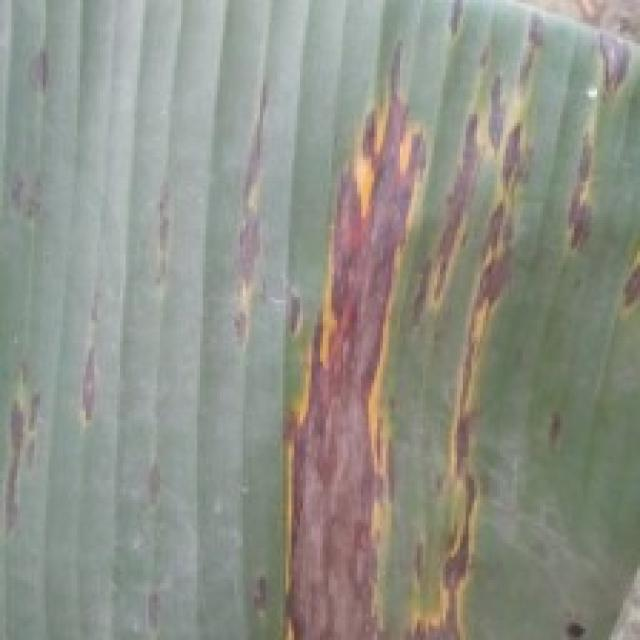Early_leaf_spot: (430, 0, 640, 640), (257, 56, 430, 640), (222, 80, 298, 366), (0, 386, 55, 511), (63, 301, 104, 445), (146, 192, 188, 311)
